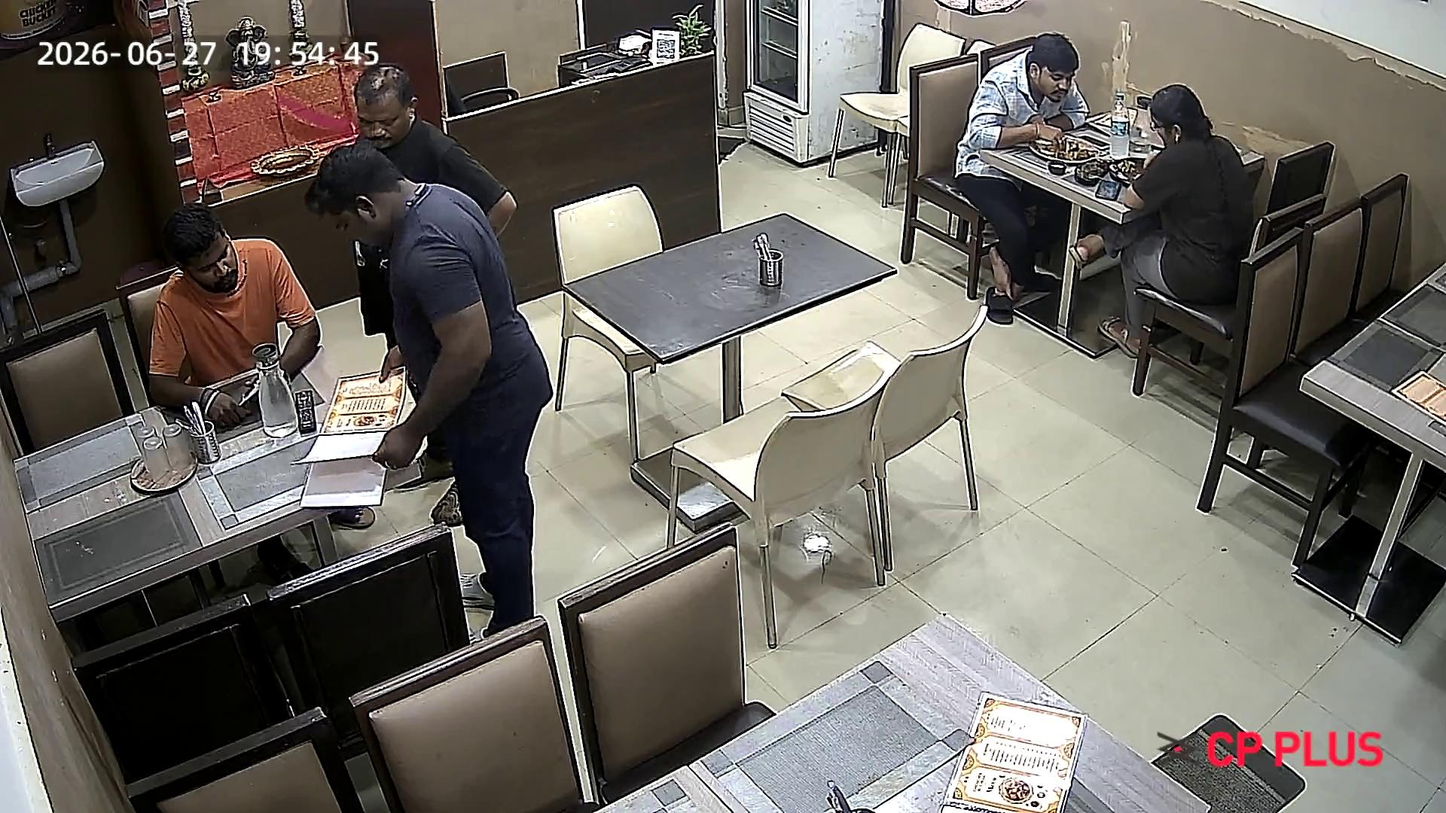clean: (558, 203, 906, 366)
occupied: (459, 607, 1241, 813), (13, 223, 376, 551), (912, 50, 1279, 239)
